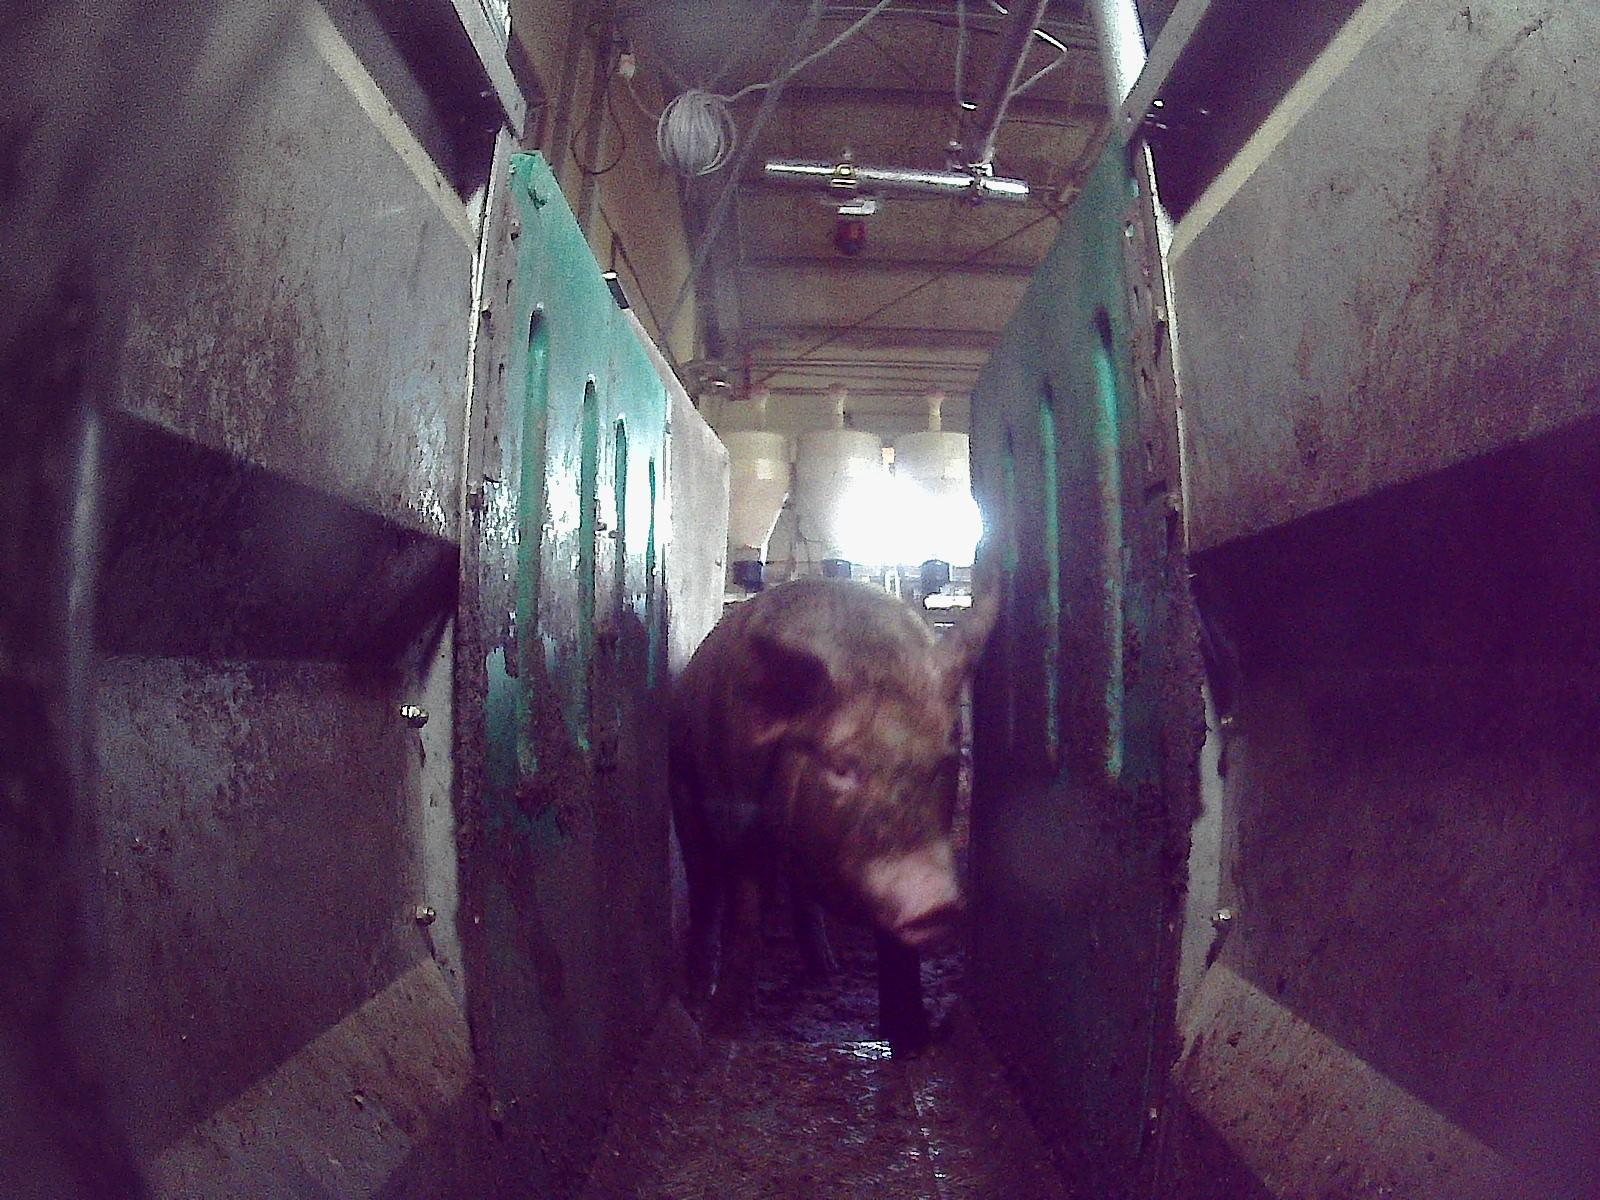Face: (762, 671, 965, 944)
